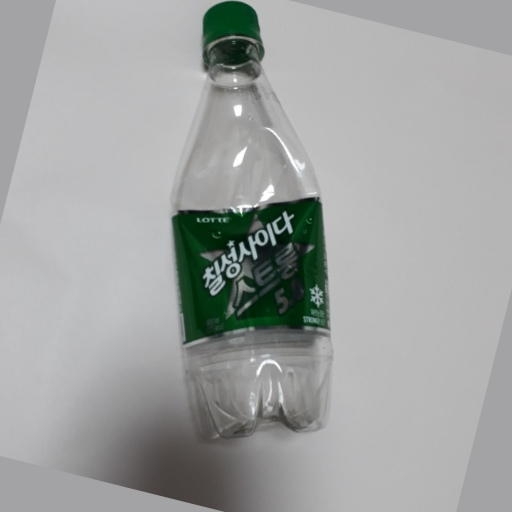Plastic_0: (172, 1, 334, 441)
